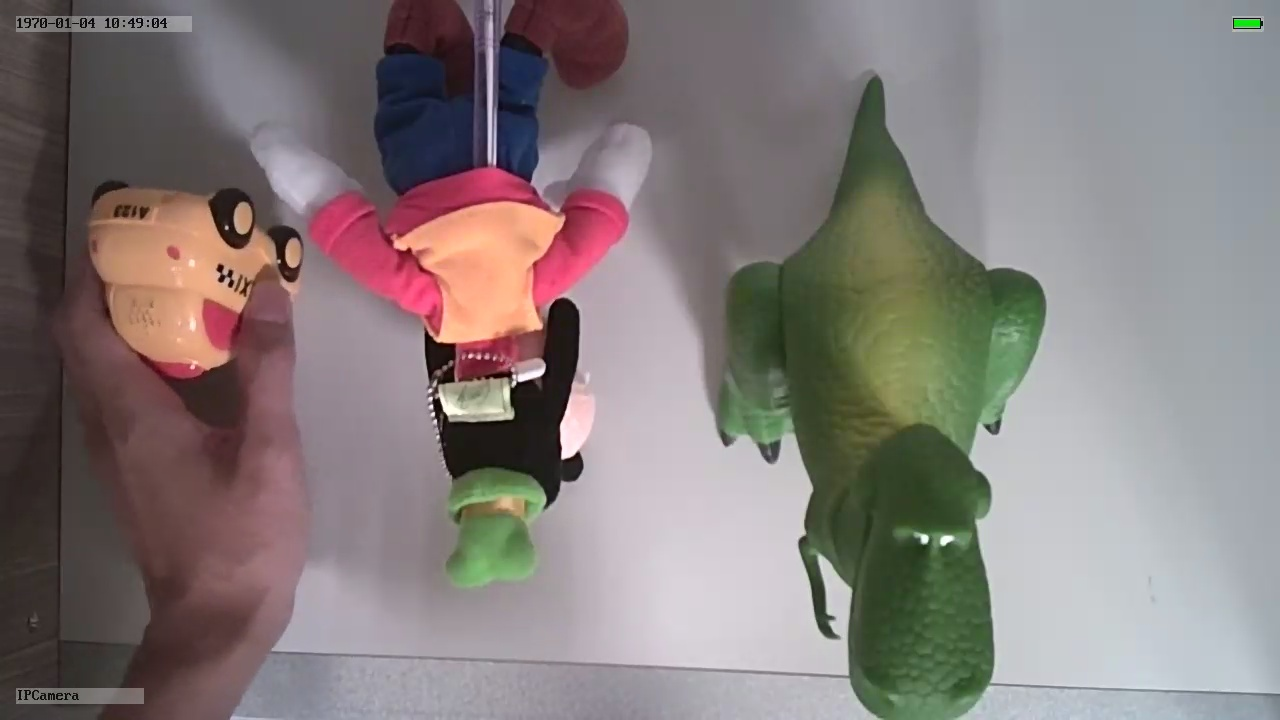rex: (714, 145, 1052, 720)
